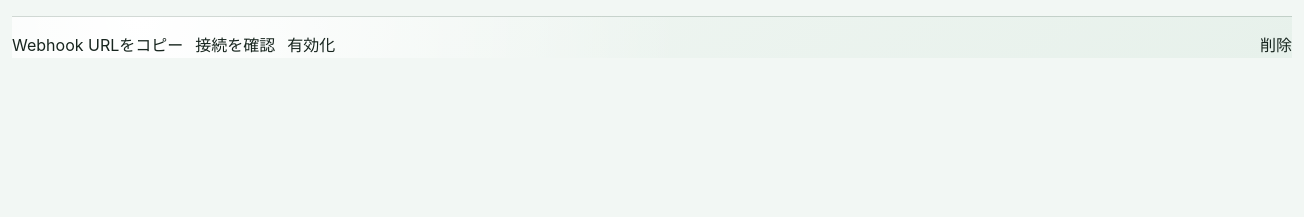
shows connection scope only after an explicit check
Expected: the text "access token と bot identity の確認のみ" is not shown
Click the button "接続を確認" at (235,46), box [195,33,275,58]
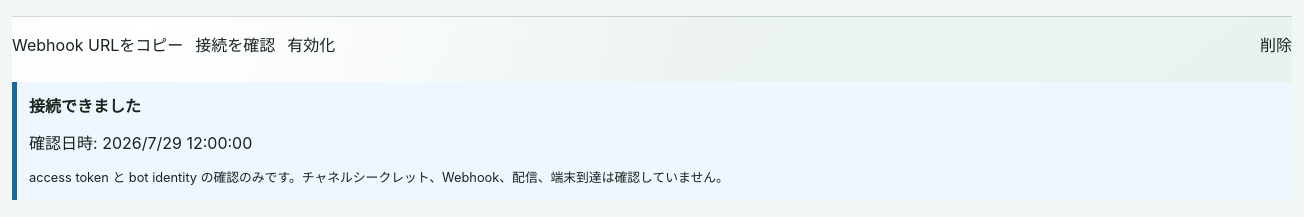
Now the text "接続できました" is shown, box [29,96,141,116]
Now the text "access token と bot identity の確認のみ" is shown, box [29,170,729,185]
